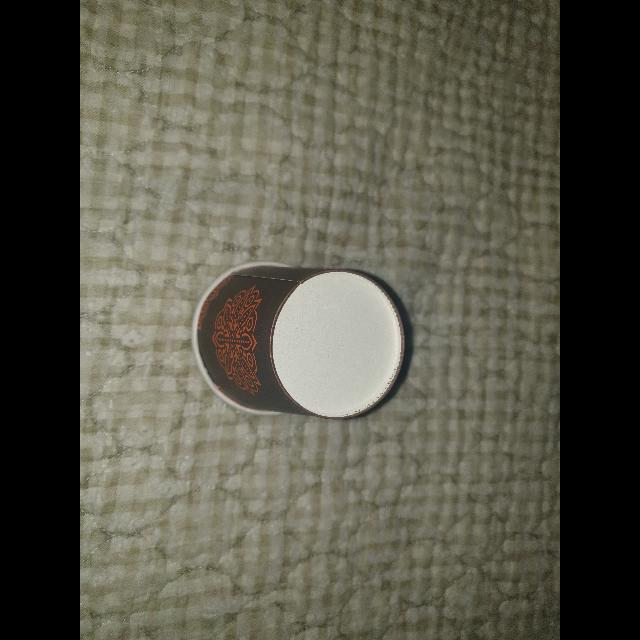trash: (184, 252, 423, 426)
